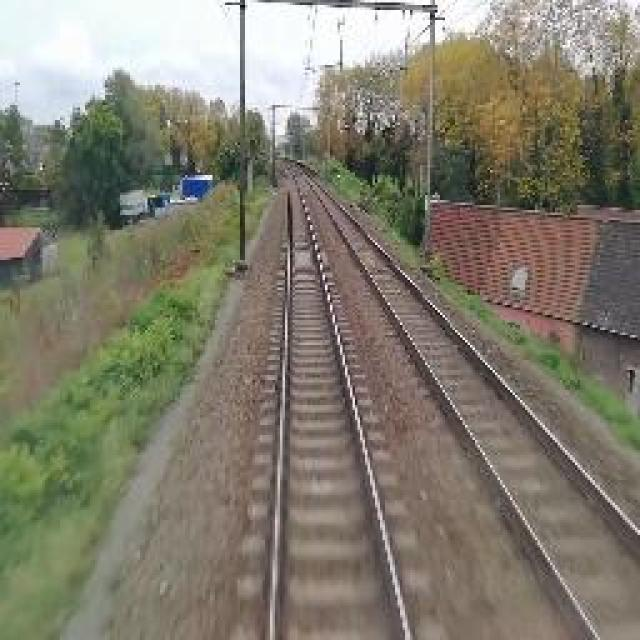rail: (231, 160, 455, 640)
